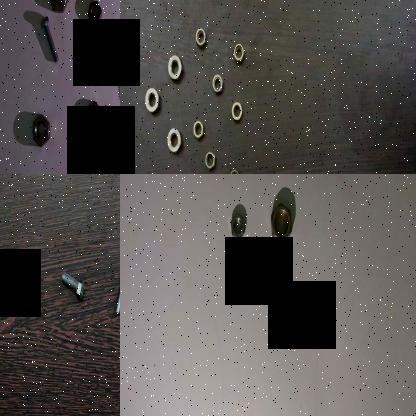Bolts: (40, 12, 60, 70), (60, 266, 88, 304), (108, 265, 120, 313)
NUTS: (270, 193, 294, 238), (30, 106, 54, 150), (85, 93, 103, 129), (230, 212, 250, 244), (142, 84, 160, 116), (192, 18, 206, 58), (167, 49, 183, 83), (85, 0, 102, 30), (165, 123, 182, 153), (45, 0, 70, 17), (230, 98, 245, 124), (192, 116, 204, 142), (211, 72, 223, 98), (232, 40, 246, 62)
